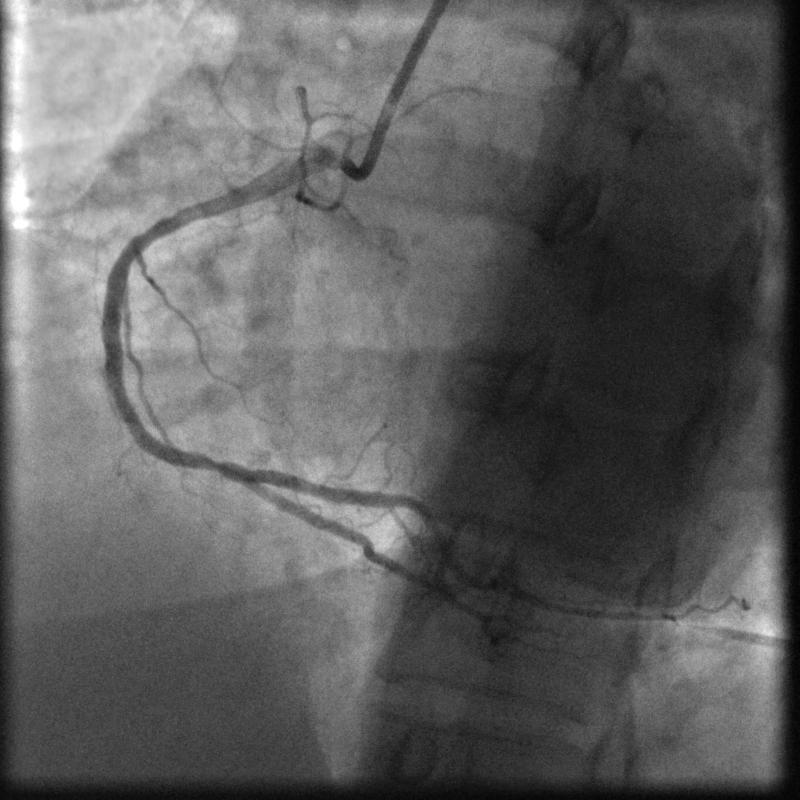Stenosis: (188, 446, 241, 482)
